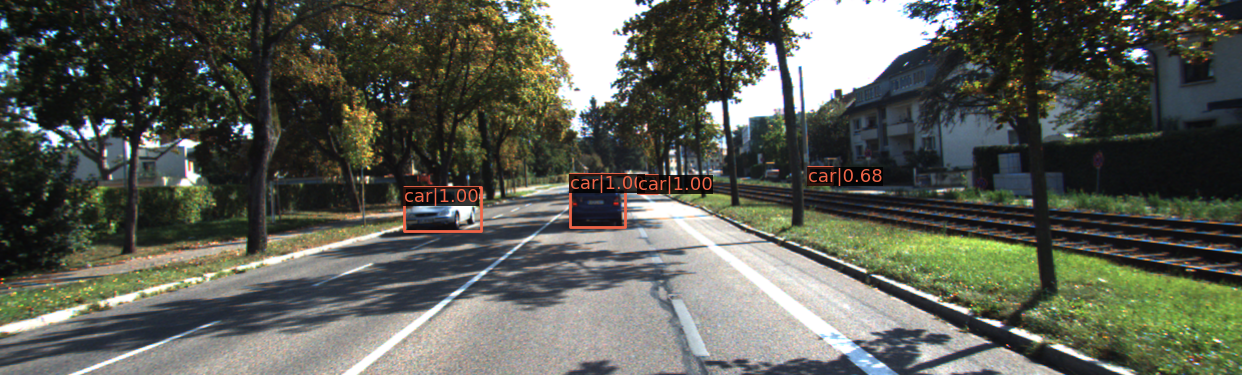car: (403, 188, 478, 234), (570, 177, 625, 231), (639, 178, 658, 194)
